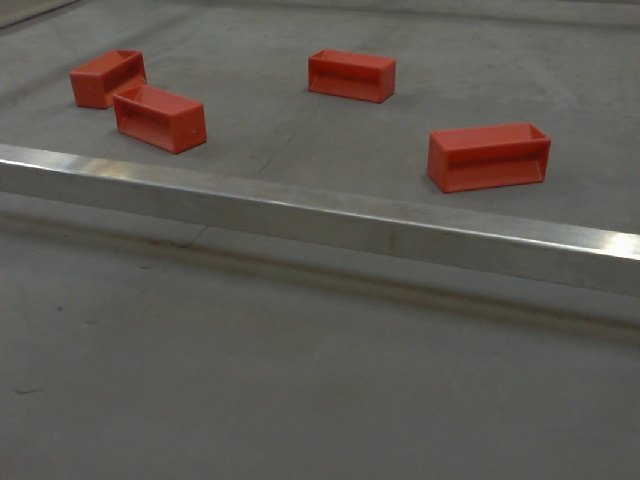RedSample: (427, 120, 550, 198), (114, 80, 208, 153), (66, 44, 149, 111), (307, 46, 398, 105)
